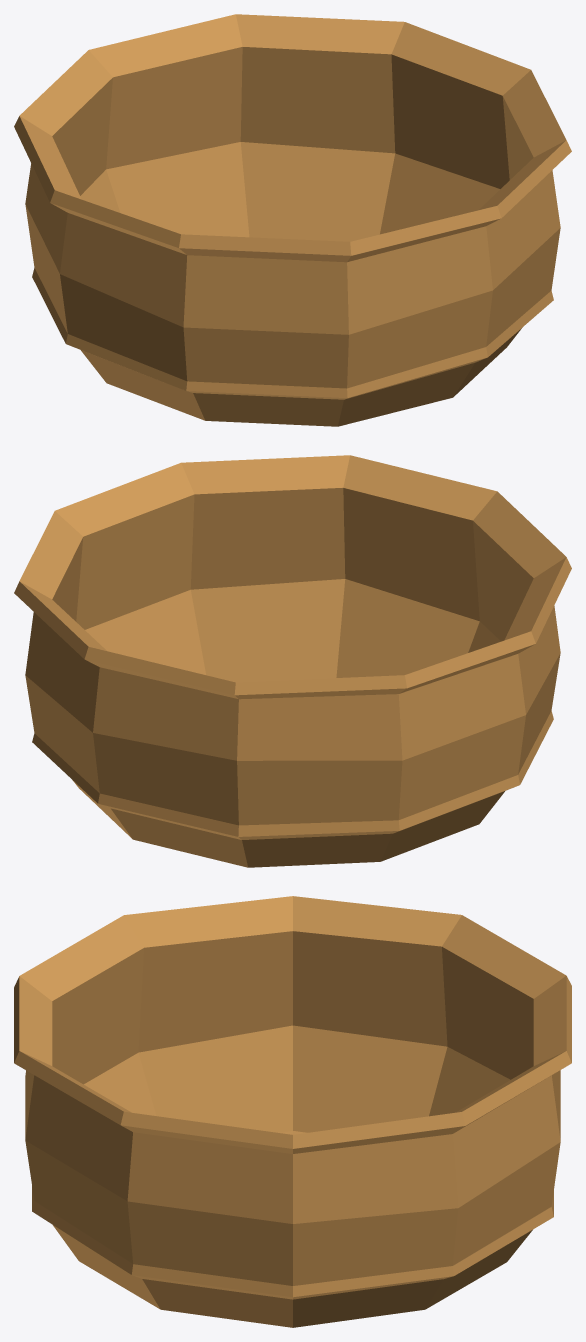
Rendered from SM_Prop_Gold_Bowl_Large_01.fbx.
3 renders of one model, top to bottom at view 1: azimuth 30°, elevation 25°; view 2: azimuth 150°, elevation 25°; view 3: azimuth 270°, elevation 25°, orthographic. The views are drawn at different scales.
Visible parts, largest first — view 1: SM_Prop_Gold_Bowl_Large_01; view 2: SM_Prop_Gold_Bowl_Large_01; view 3: SM_Prop_Gold_Bowl_Large_01.
Part boxes in pixels (x1,y1,x2,y2): SM_Prop_Gold_Bowl_Large_01: (14, 14, 571, 426); SM_Prop_Gold_Bowl_Large_01: (14, 455, 571, 867); SM_Prop_Gold_Bowl_Large_01: (14, 896, 571, 1327).
Size of the model in its own units: 136 by 59.94 by 129.
